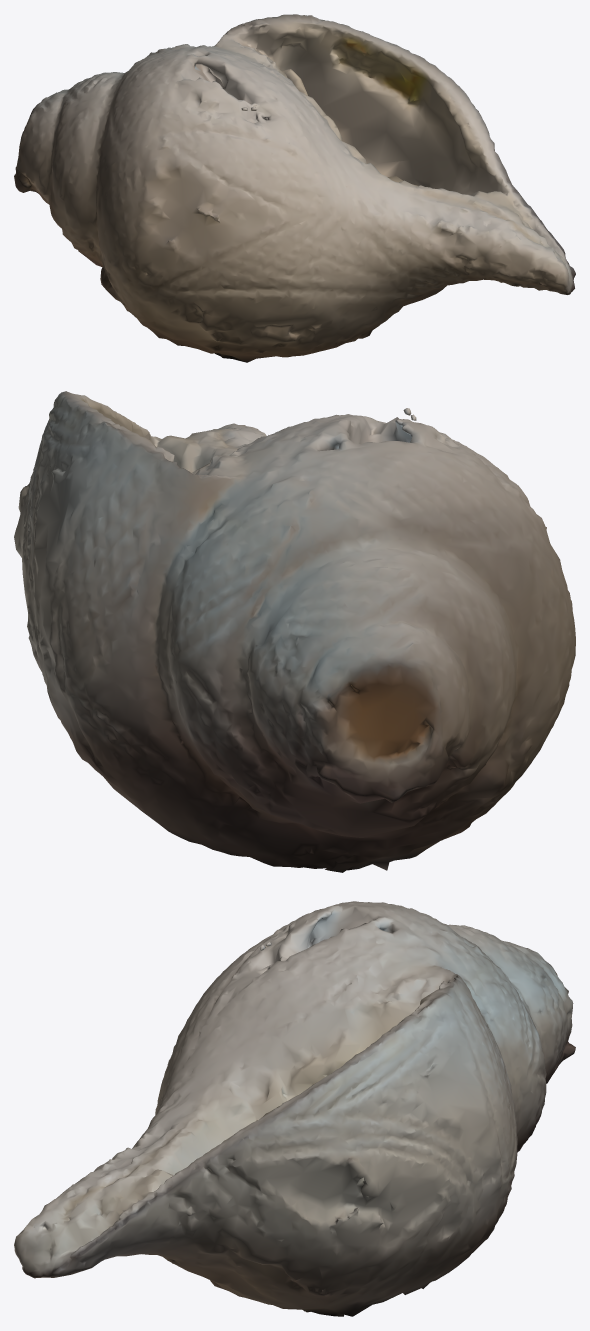
File: Blowing Shankh.obj
3 renders of one model, top to bottom at view 1: azimuth 30°, elevation 25°; view 2: azimuth 150°, elevation 25°; view 3: azimuth 270°, elevation 25°, orthographic. The views are drawn at different scales.
Size of the model in its own units: 5.6 by 4.15 by 6.22.
